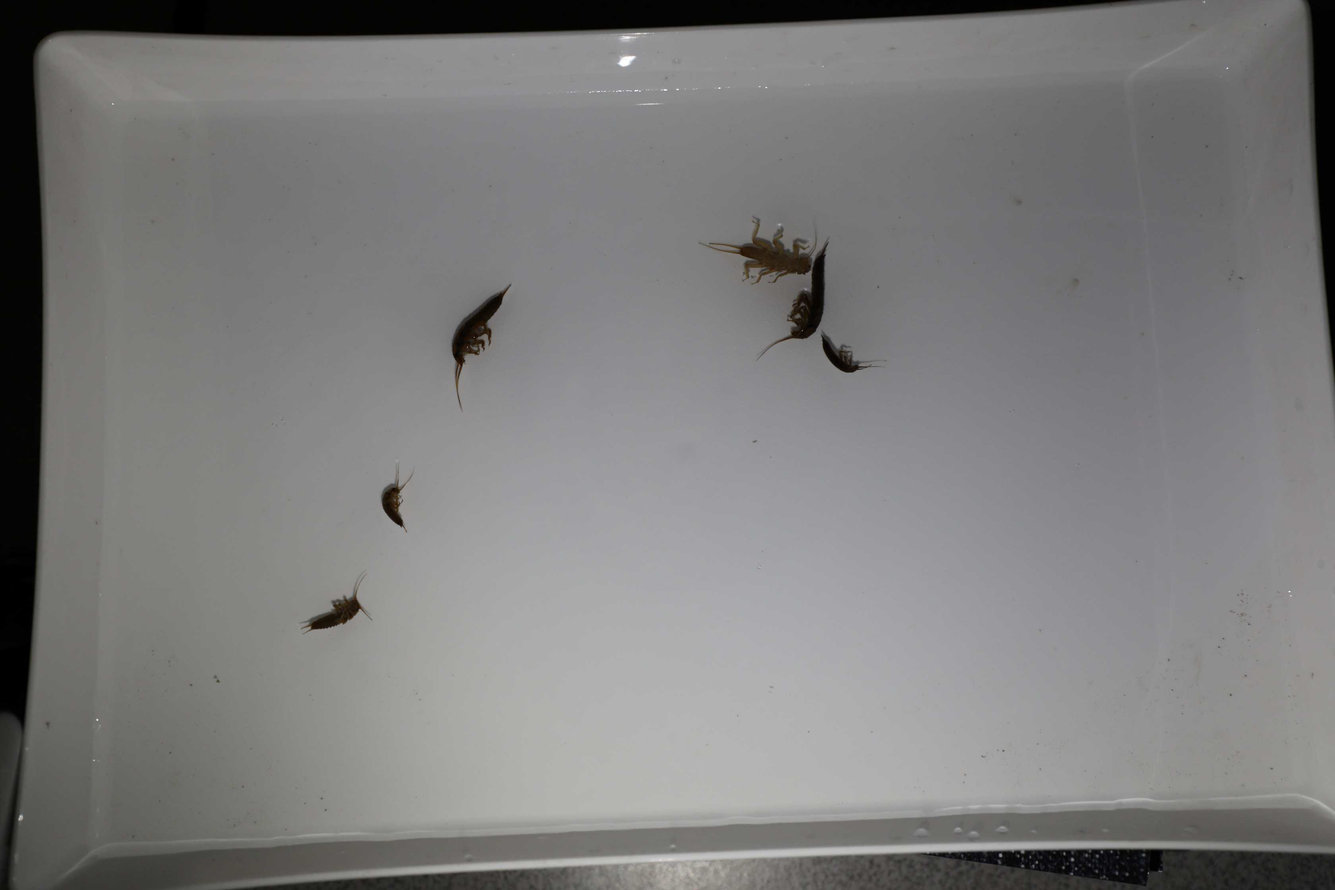Stonefly: (758, 231, 829, 365), (447, 287, 512, 419), (698, 216, 817, 284), (301, 571, 375, 637), (375, 464, 416, 537), (821, 330, 882, 376)
